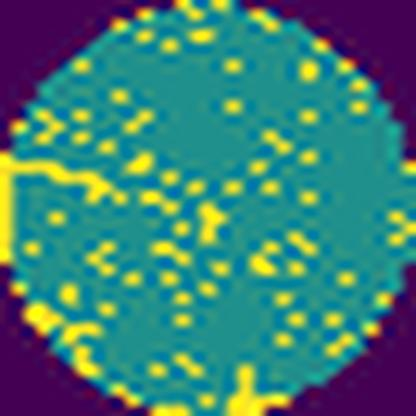Edge-Loc: (0, 154, 132, 268), (220, 362, 294, 416), (23, 301, 69, 340)
